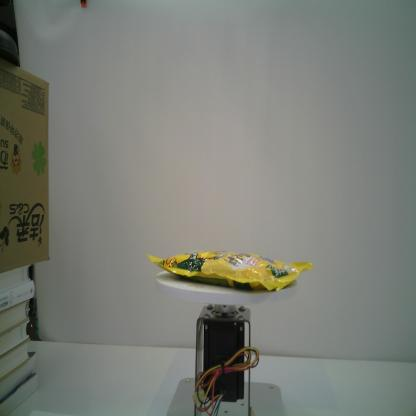Seasoner: (146, 249, 314, 292)
